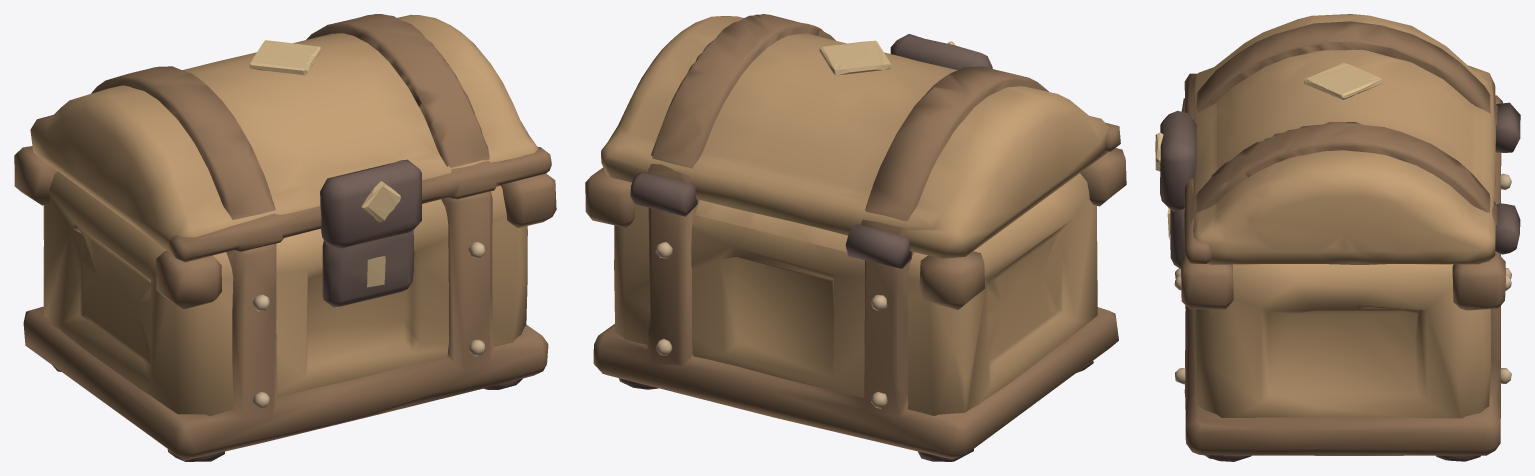
The model's file is box_bronze.glb.
3 renders of one model, left to right at view 1: azimuth 30°, elevation 25°; view 2: azimuth 150°, elevation 25°; view 3: azimuth 270°, elevation 25°, orthographic. The views are drawn at different scales.
Visible parts, largest first — view 1: body, lid, lid_glow; view 2: body, lid, lid_glow; view 3: lid, body, lid_glow.
Part boxes in pixels (bbox=[...]): body: bbox=[14, 146, 556, 461]; lid: bbox=[30, 14, 551, 262]; lid_glow: bbox=[249, 40, 400, 222]; body: bbox=[585, 148, 1126, 461]; lid: bbox=[601, 14, 1120, 268]; lid_glow: bbox=[819, 40, 955, 75]; lid: bbox=[1160, 14, 1520, 264]; body: bbox=[1170, 95, 1511, 461]; lid_glow: bbox=[1155, 62, 1382, 171].
Size of the model in its own units: 1.03 by 0.8168 by 0.8873.
